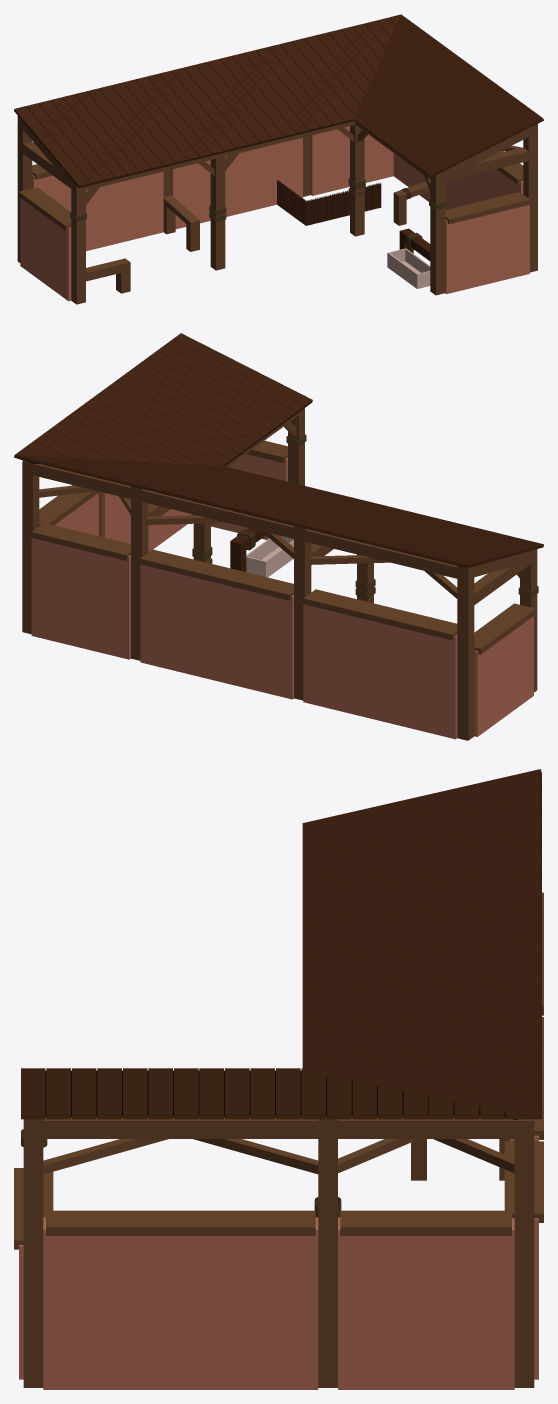
The model's file is Stall Eingang.fbx.
3 renders of one model, top to bottom at view 1: azimuth 30°, elevation 25°; view 2: azimuth 150°, elevation 25°; view 3: azimuth 270°, elevation 25°, orthographic. The views are drawn at different scales.
Parts seen in each view (by area): view 1: Dach, Wände, Stall, Zaun, Wasserschale, Seil, Leine; view 2: Wände, Dach, Stall, Wasserschale, Seil, Leine; view 3: Dach, Wände, Stall.
Part boxes in pixels (<box>): Dach: <box>14,14,543,187</box>; Wände: <box>20,126,529,301</box>; Stall: <box>17,116,537,304</box>; Zaun: <box>277,179,381,225</box>; Wasserschale: <box>387,248,430,288</box>; Seil: <box>70,178,446,250</box>; Leine: <box>399,228,430,260</box>; Wände: <box>31,454,533,739</box>; Dach: <box>14,333,543,568</box>; Stall: <box>22,408,537,740</box>; Wasserschale: <box>246,536,293,577</box>; Seil: <box>192,434,538,597</box>; Leine: <box>230,528,265,571</box>; Dach: <box>21,769,541,1119</box>; Wände: <box>19,1135,538,1389</box>; Stall: <box>14,892,543,1387</box>.
Bounding box in the file's own units: 1684 × 624 × 1080.
